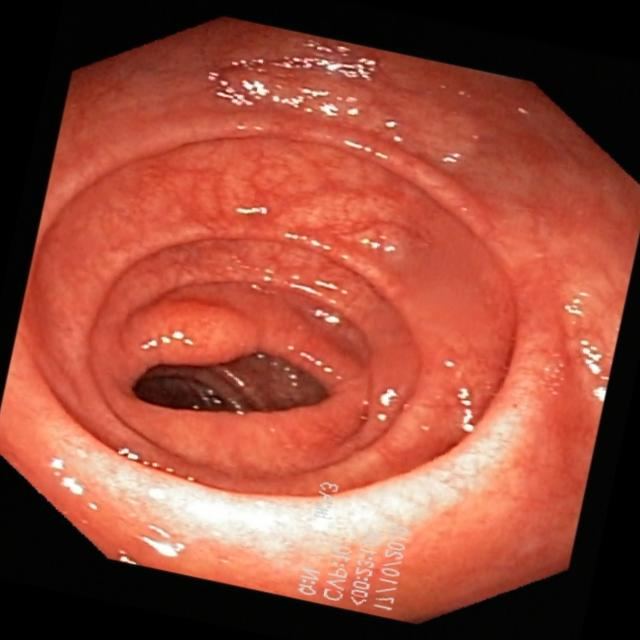Polyps: (129, 292, 261, 373)
